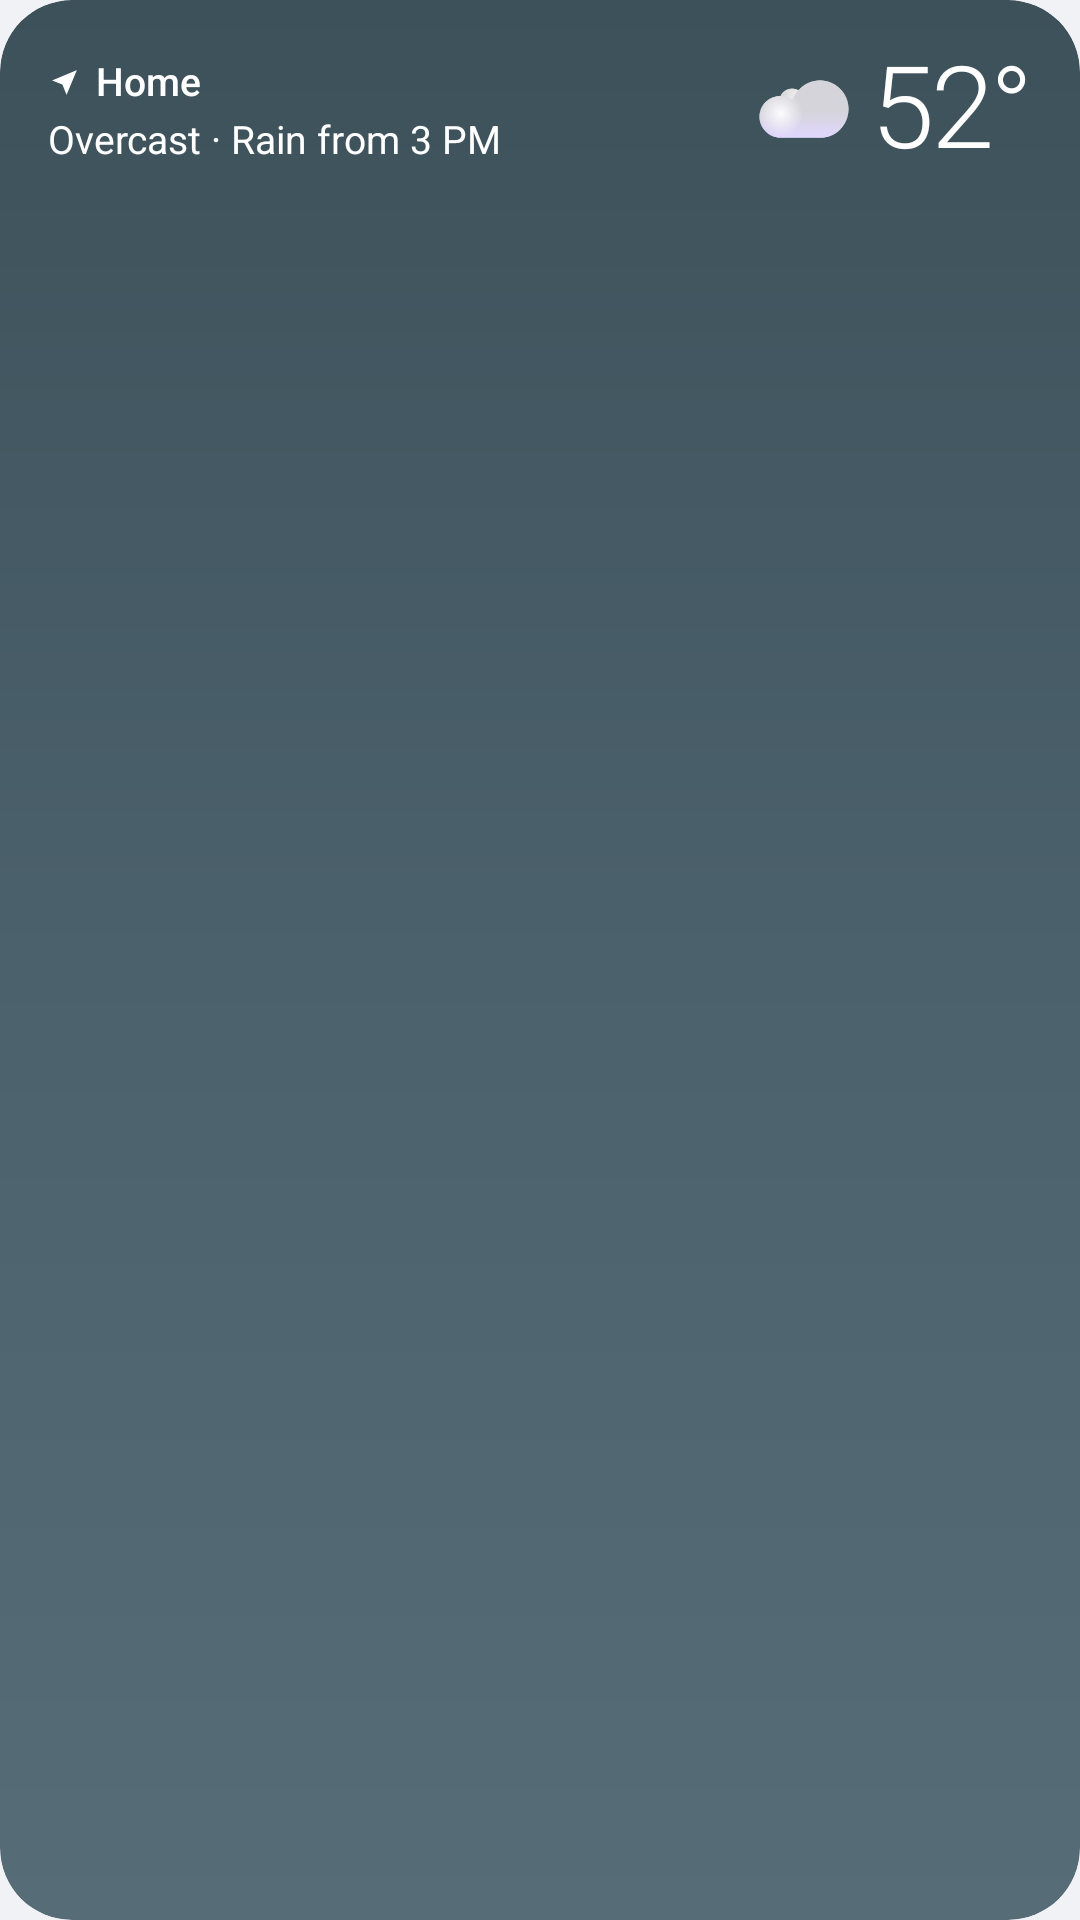

Where icons sit on this 1080 × 1920 app screen, as (x1, y1, x2, y2):
cloud: (759, 80, 849, 138)
